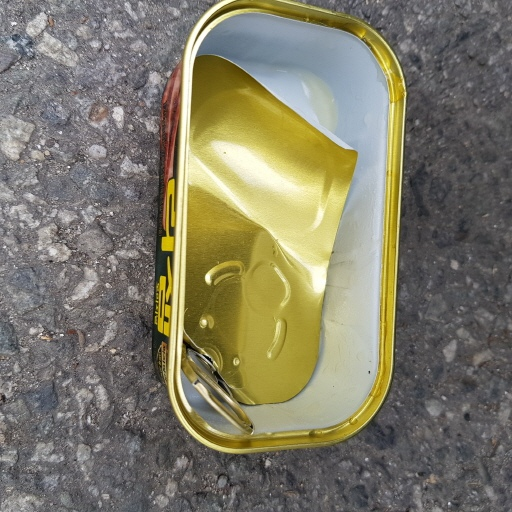Metal_2: (153, 1, 408, 464)
